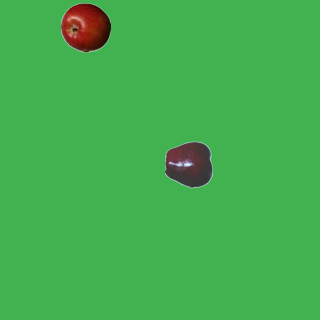Apple Braeburn: (60, 2, 110, 52)
Apple Red Delicious: (164, 139, 214, 189)
